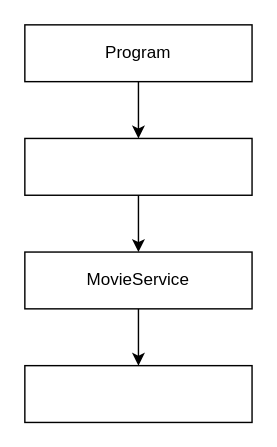
Image size: 277x447. Some labels were removed from this diagram. Here are the shapes that lost their labels. From the top down, the centre of each, then its label:
At pixel 137 166: "MovieConsoleService".
At pixel 137 393: "MovieModel".
